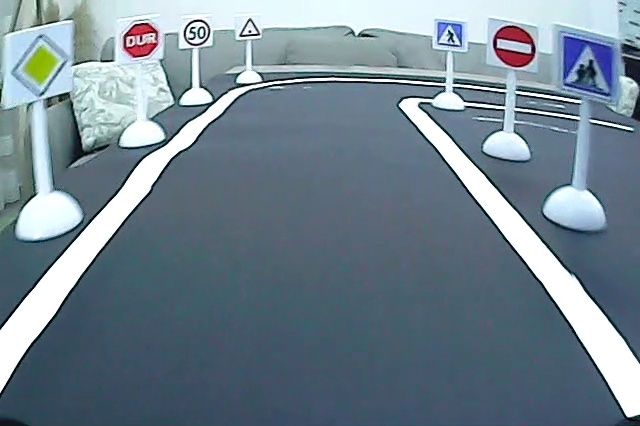do not enter: (489, 20, 539, 73)
green light: (235, 15, 262, 40)
pedestrian crossing: (436, 20, 466, 51)
school crossing: (556, 29, 616, 99)
speed limit 50: (181, 18, 213, 48)
stop sign: (118, 18, 163, 62)
